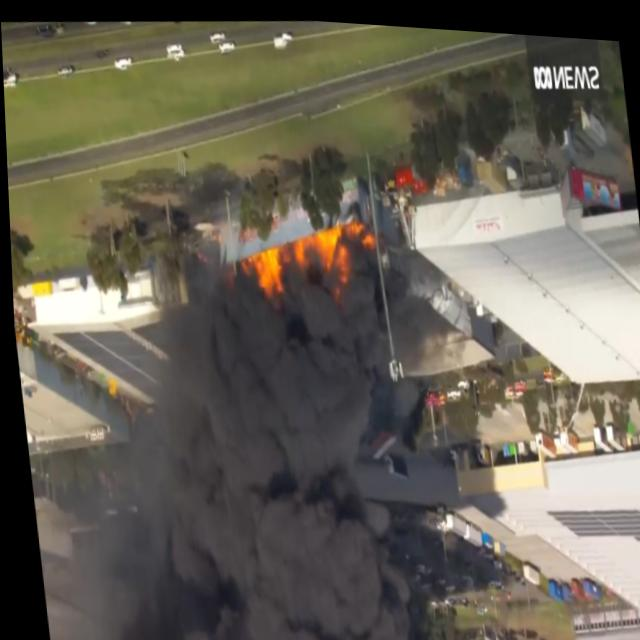Fire: (291, 213, 380, 282), (244, 241, 286, 299)
